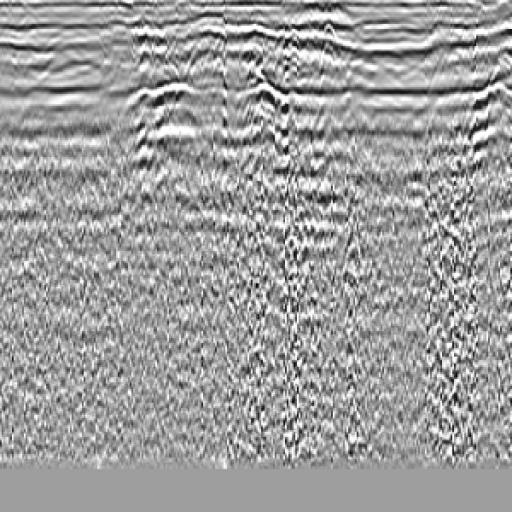non-metallic: (234, 64, 326, 254), (118, 63, 170, 234), (468, 59, 512, 242)
